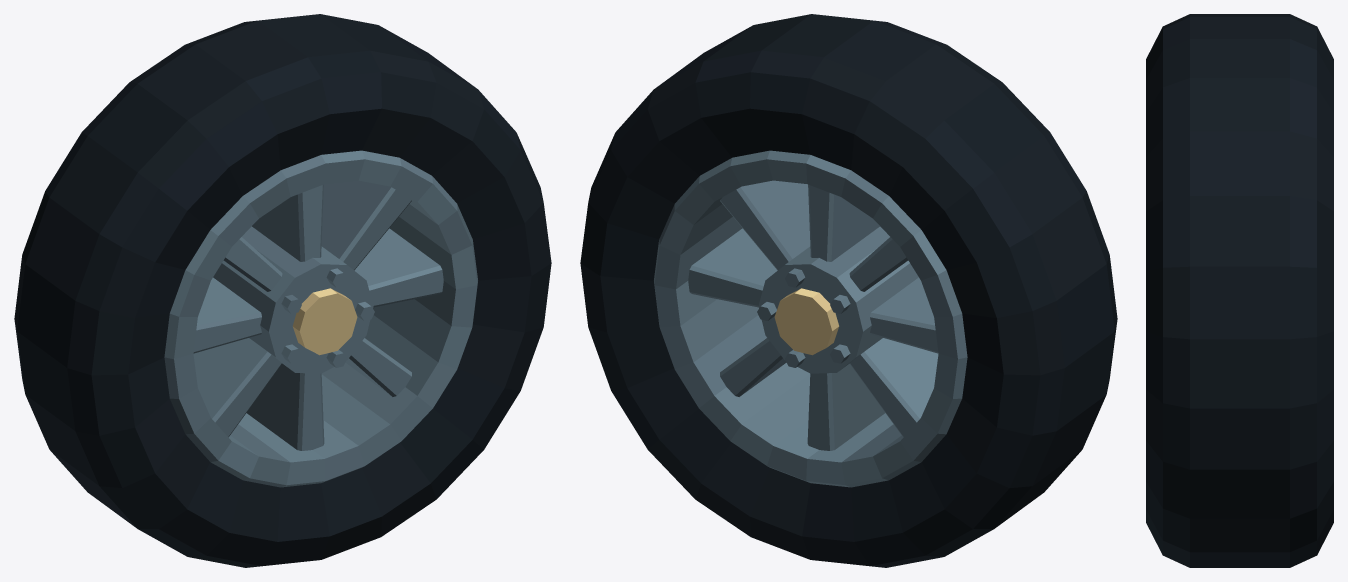
Rendered from EC_TouringWheel.fbx.
3 views of the same model, side by side, from view 1: azimuth 30°, elevation 25°; view 2: azimuth 150°, elevation 25°; view 3: azimuth 270°, elevation 25° (orthographic).
Visible parts, largest first — view 1: EC_TouringWheel; view 2: EC_TouringWheel; view 3: EC_TouringWheel.
Part boxes in pixels (x1,y1,x2,y2): EC_TouringWheel: (14,14,551,567); EC_TouringWheel: (580,14,1117,567); EC_TouringWheel: (1146,14,1333,567).
Size of the model in its own units: 0.8 by 0.8 by 0.27.
